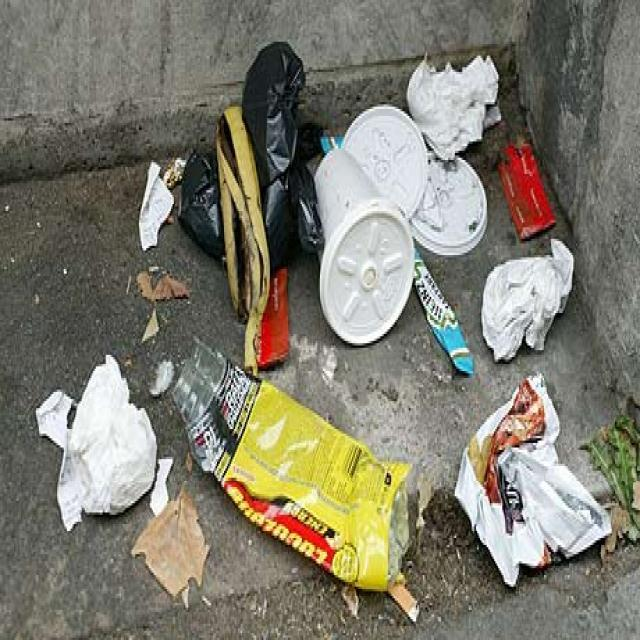plastic: (18, 32, 623, 628)
